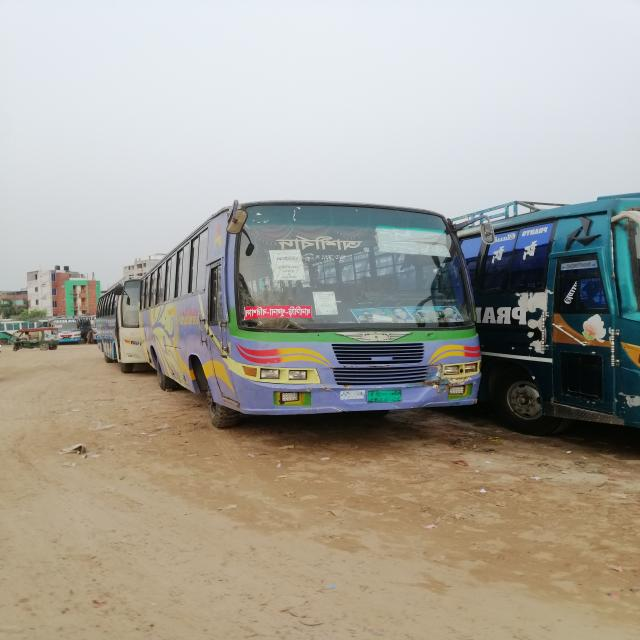Bus: (137, 198, 497, 428)
